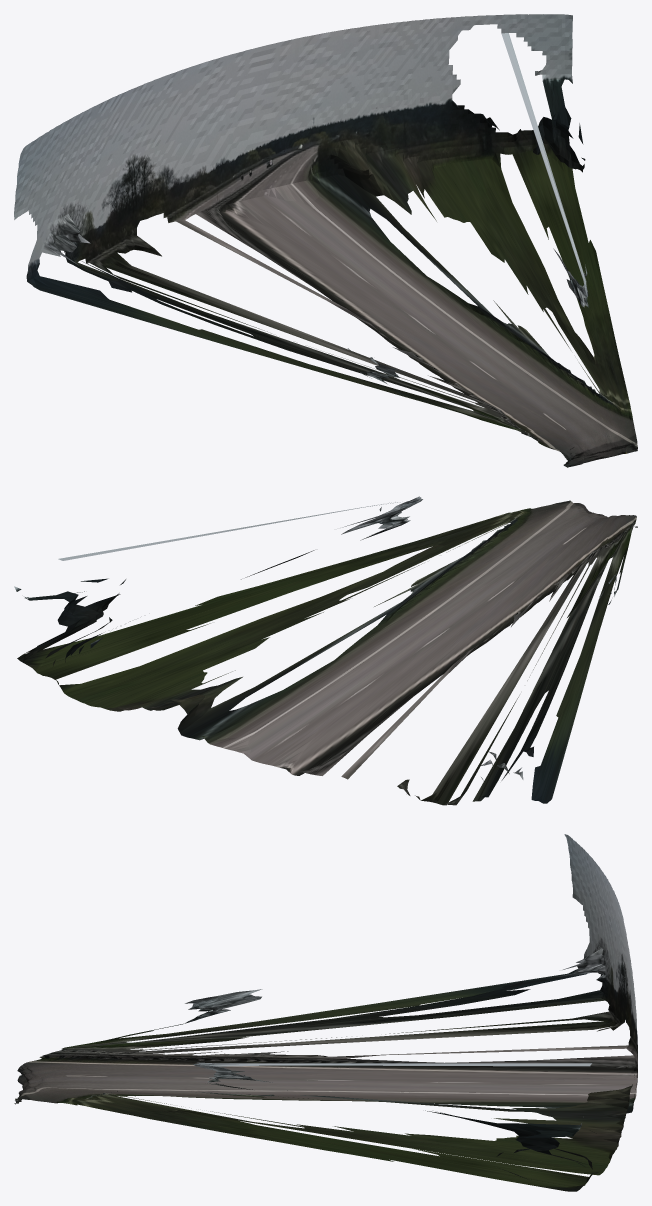
The picture shows the model from 3 angles, top to bottom: view 1: azimuth 30°, elevation 25°; view 2: azimuth 150°, elevation 25°; view 3: azimuth 270°, elevation 25°; orthographic projection. The views are drawn at different scales.
Visible parts, largest first — view 1: defaultobject; view 2: defaultobject; view 3: defaultobject.
Part boxes in pixels (x1,y1,x2,y2): defaultobject: (14, 14, 637, 467); defaultobject: (14, 496, 637, 805); defaultobject: (14, 834, 637, 1191).
Size of the model in its own units: 41 by 11.97 by 44.37.
Materials: 1 (1 with a texture image).
